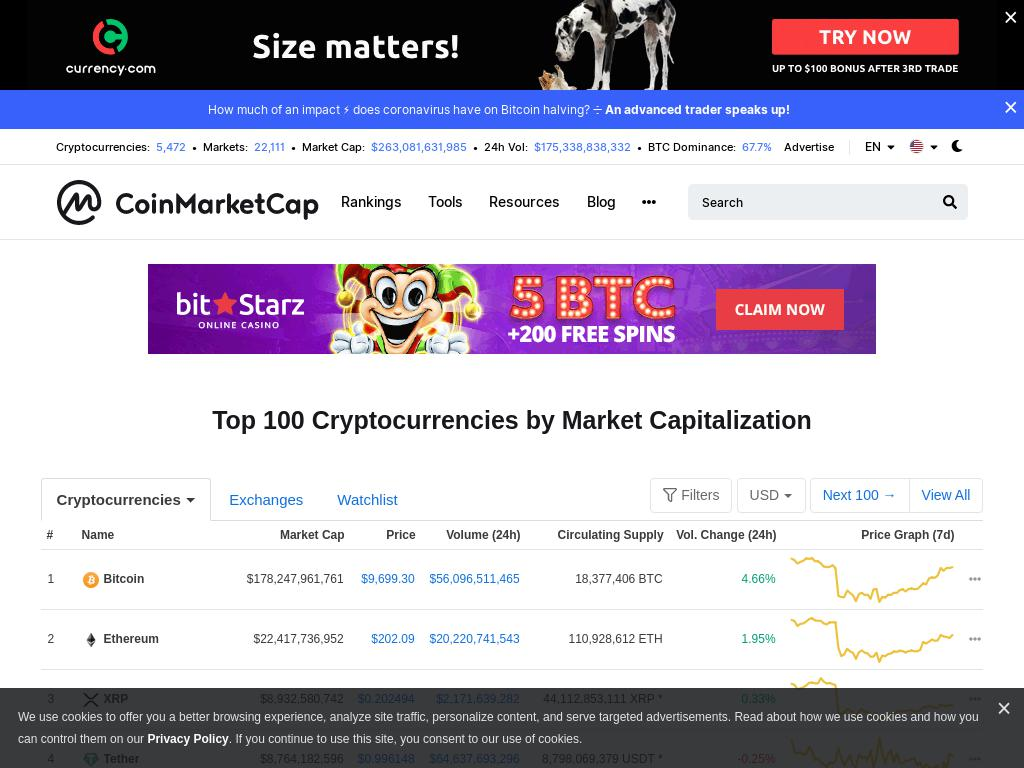button: (55, 179, 319, 225), (789, 556, 954, 604), (789, 616, 954, 664), (789, 676, 954, 724), (789, 736, 954, 768), (214, 479, 319, 520), (322, 479, 413, 520), (809, 478, 910, 513), (650, 478, 733, 513), (908, 478, 984, 513), (736, 478, 806, 513), (860, 133, 898, 160), (903, 133, 941, 160), (103, 631, 159, 648), (103, 571, 145, 588), (103, 751, 140, 768), (103, 691, 129, 708)
field: (688, 184, 969, 220)
heading: (40, 402, 984, 438)
iframe: (27, 0, 997, 90), (147, 264, 876, 354)
image: (55, 179, 319, 225), (789, 556, 954, 604), (789, 616, 954, 664), (789, 676, 954, 724), (789, 736, 954, 768), (82, 571, 99, 588), (82, 631, 99, 648), (82, 691, 99, 708), (82, 751, 99, 768), (908, 139, 922, 152)
link: (604, 102, 790, 117), (533, 139, 631, 154), (370, 139, 467, 154), (429, 572, 520, 586), (429, 632, 520, 646), (429, 752, 520, 766), (436, 692, 520, 706), (147, 732, 230, 746), (357, 692, 415, 706), (357, 752, 415, 766), (784, 139, 835, 154), (361, 572, 415, 586), (371, 632, 415, 646), (253, 139, 285, 154), (586, 194, 616, 210), (155, 139, 186, 154), (741, 139, 772, 154)
text: (18, 710, 979, 746), (207, 102, 605, 117), (782, 521, 961, 550), (228, 732, 582, 746), (75, 521, 240, 550), (526, 521, 670, 550), (533, 565, 663, 594), (533, 625, 663, 654), (533, 685, 663, 714), (669, 521, 783, 550), (239, 521, 351, 550), (421, 521, 527, 550), (533, 745, 663, 768), (676, 565, 776, 594), (676, 625, 776, 654), (676, 685, 776, 714), (246, 565, 344, 594), (246, 625, 344, 654), (246, 685, 344, 714), (56, 491, 196, 508), (676, 745, 776, 768), (246, 745, 344, 768), (350, 521, 422, 550), (984, 688, 1024, 728), (489, 191, 561, 213), (55, 139, 147, 154), (340, 191, 402, 213), (647, 139, 733, 154), (40, 521, 76, 550), (301, 139, 362, 154), (428, 191, 464, 213), (997, 95, 1024, 124), (202, 139, 245, 154), (47, 565, 69, 594), (47, 625, 69, 654), (47, 685, 69, 714), (483, 139, 525, 154), (681, 487, 720, 503), (47, 745, 69, 768), (1003, 6, 1019, 28), (865, 140, 882, 153), (146, 139, 156, 154), (244, 139, 254, 154), (361, 139, 371, 154), (524, 139, 534, 154), (732, 139, 742, 154)
